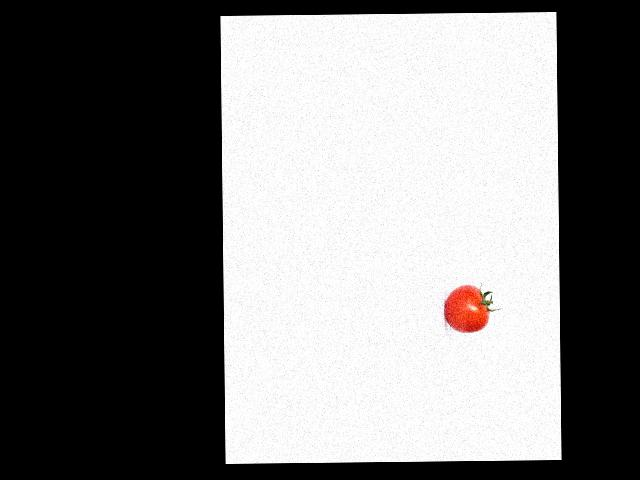tomato: (444, 285, 489, 333)
